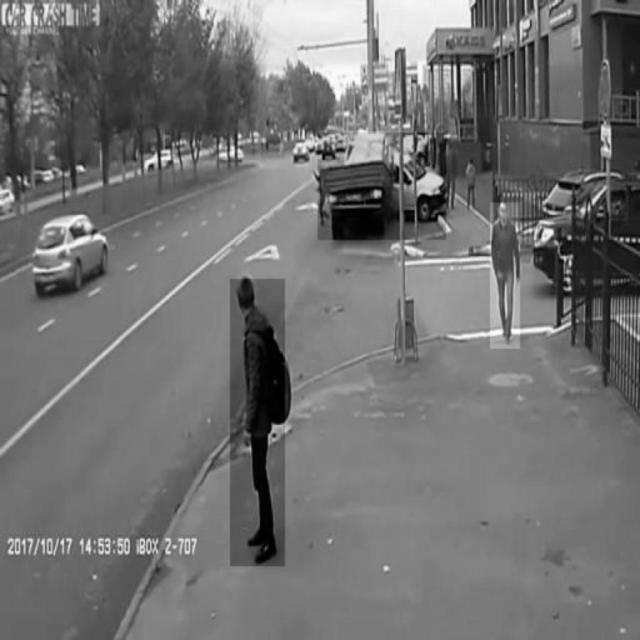accident: (318, 133, 446, 241)
person: (230, 279, 286, 567), (490, 203, 520, 349)
vehicle: (534, 175, 640, 299), (28, 211, 111, 288)
